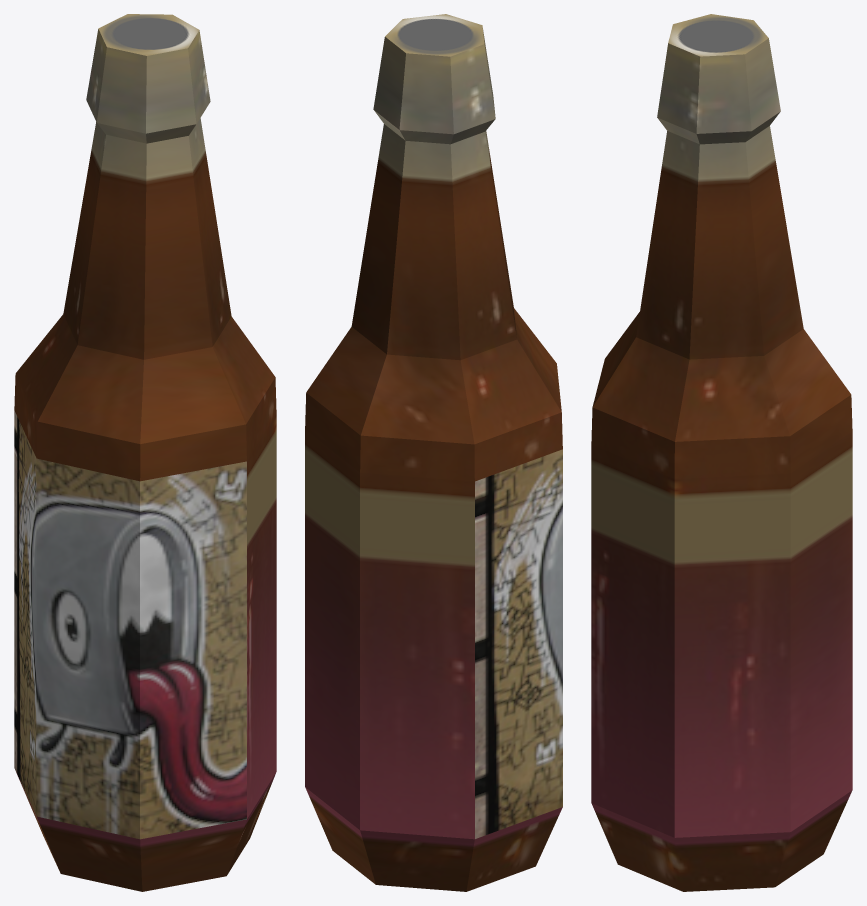
The model's file is P_Bottle3.fbx.
3 renders of one model, left to right at view 1: azimuth 30°, elevation 25°; view 2: azimuth 150°, elevation 25°; view 3: azimuth 270°, elevation 25°, orthographic.
Parts seen in each view (by area): view 1: Empty_Mesh; view 2: Empty_Mesh; view 3: Empty_Mesh.
Part boxes in pixels (x1,y1,x2,y2): Empty_Mesh: (14,14,276,891); Empty_Mesh: (305,14,562,891); Empty_Mesh: (591,14,852,891).
Size of the model in its own units: 0.0768 by 0.2639 by 0.0767.
